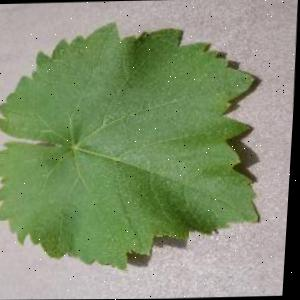Folha: (0, 15, 273, 274)
